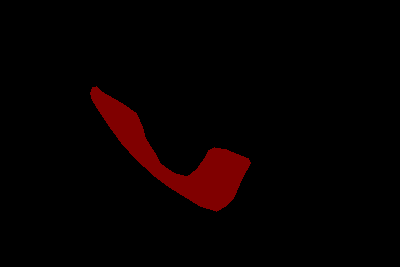fire: (90, 86, 250, 211)
